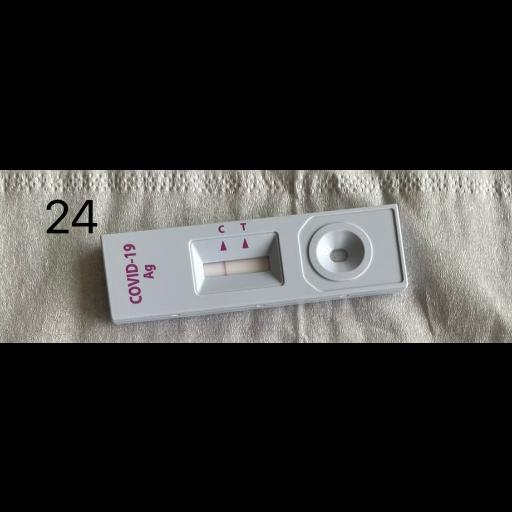Neg: (102, 202, 409, 320)
